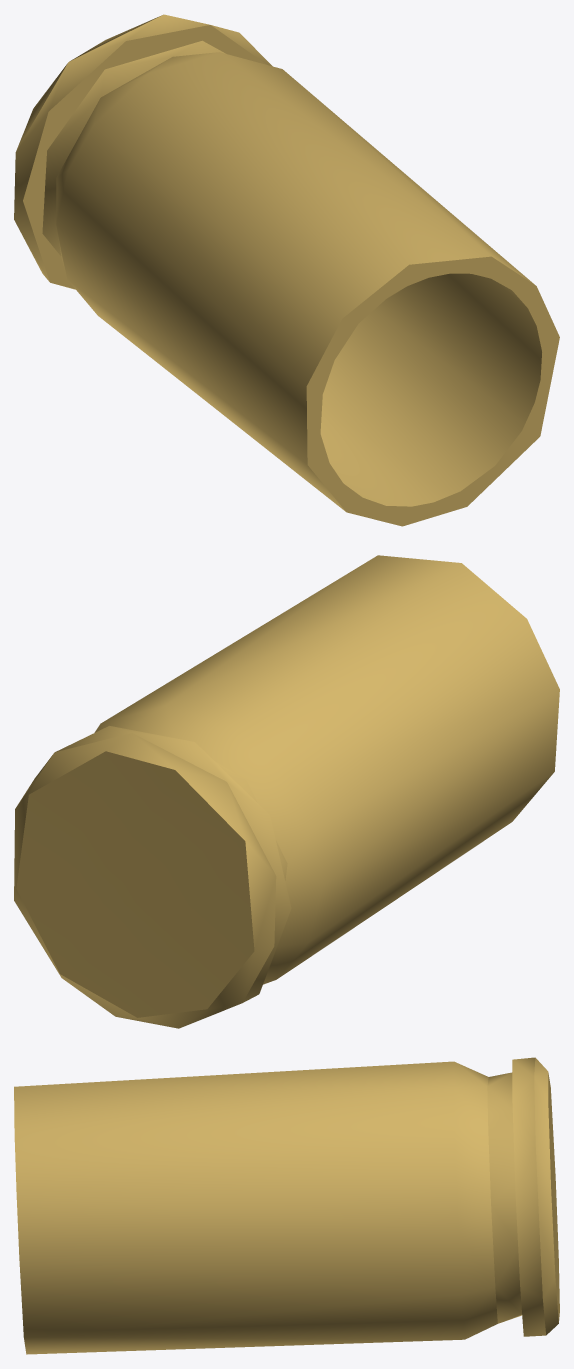
File: SM_ZP_M9_ShellCase.fbx
The picture shows the model from 3 angles, top to bottom: view 1: azimuth 30°, elevation 25°; view 2: azimuth 150°, elevation 25°; view 3: azimuth 270°, elevation 25°; orthographic projection. The views are drawn at different scales.
Parts seen in each view (by area): view 1: 9mm LUGER.003; view 2: 9mm LUGER.003; view 3: 9mm LUGER.003.
Part boxes in pixels (x1,y1,x2,y2): 9mm LUGER.003: (14,14,559,526); 9mm LUGER.003: (14,555,559,1028); 9mm LUGER.003: (14,1057,559,1354).
Bounding box in the file's own units: 0.9442 × 1.01 × 1.85.
